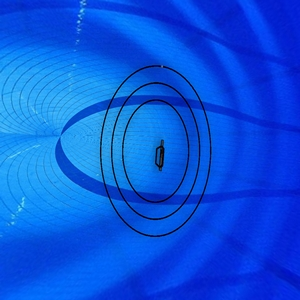circle: (98, 64, 220, 238)
submarine: (150, 138, 171, 173)
